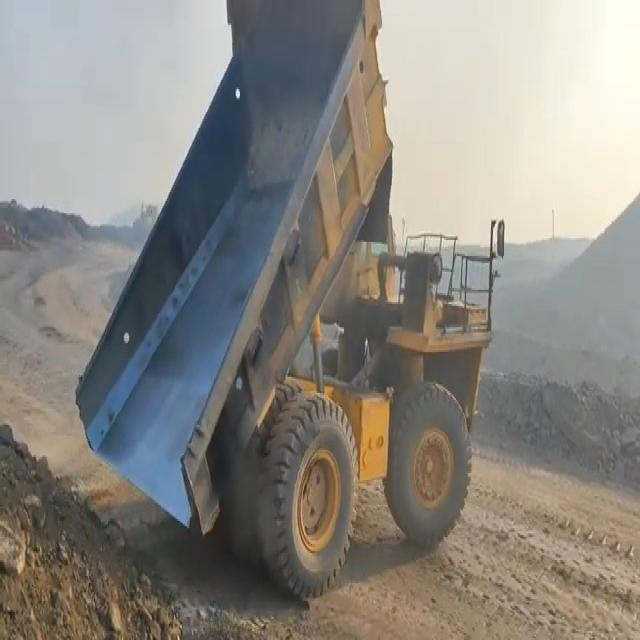dump_truck: (79, 0, 503, 593)
